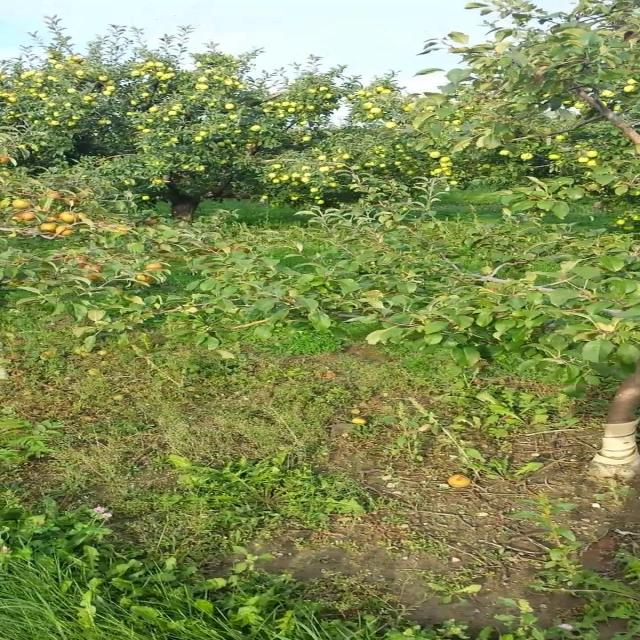apple: (58, 211, 78, 224), (53, 225, 73, 236), (38, 222, 58, 232), (11, 199, 31, 209), (16, 212, 36, 221), (136, 274, 153, 284), (84, 272, 102, 281), (144, 262, 164, 270), (84, 264, 102, 272), (44, 212, 58, 221), (47, 190, 60, 199), (76, 259, 89, 268), (56, 225, 69, 233), (11, 215, 22, 221)
